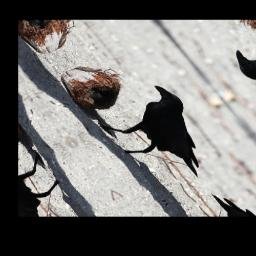Crow: (88, 81, 233, 196)
